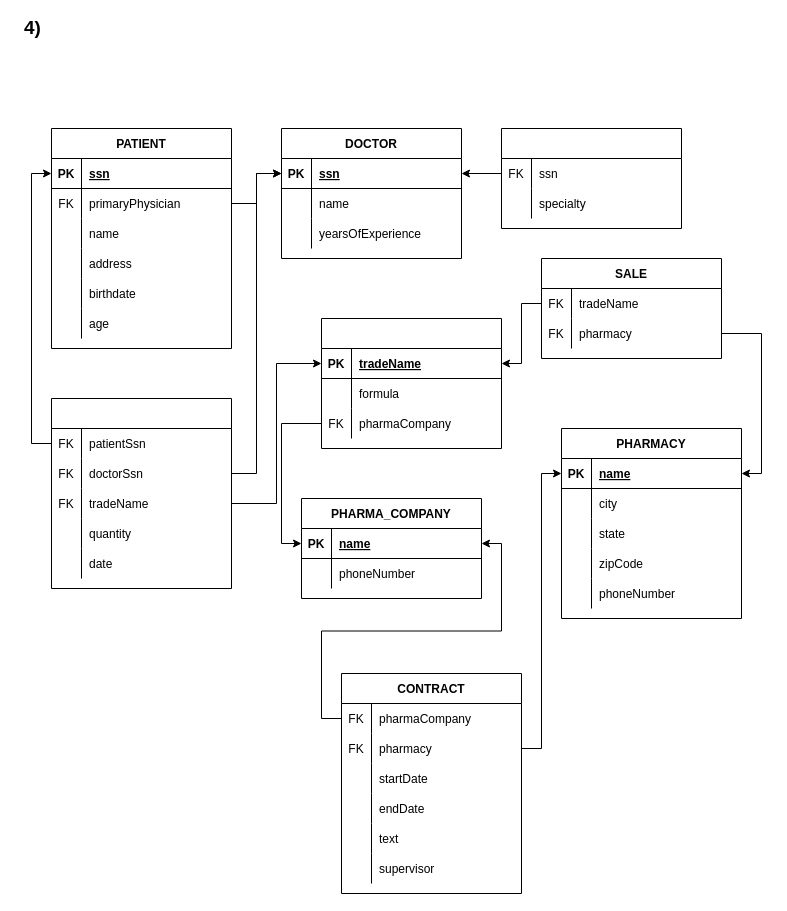
The diagram is 787 pixels wide and 911 high, and some of its shapes have lost their labels. Here are the shapes that lost their labels. From the top down, the box of each, then its label:
(500, 128, 682, 228): DOCTOR_SPECIALTY
(320, 318, 502, 448): DRUG
(50, 398, 232, 588): PRESPICTION
